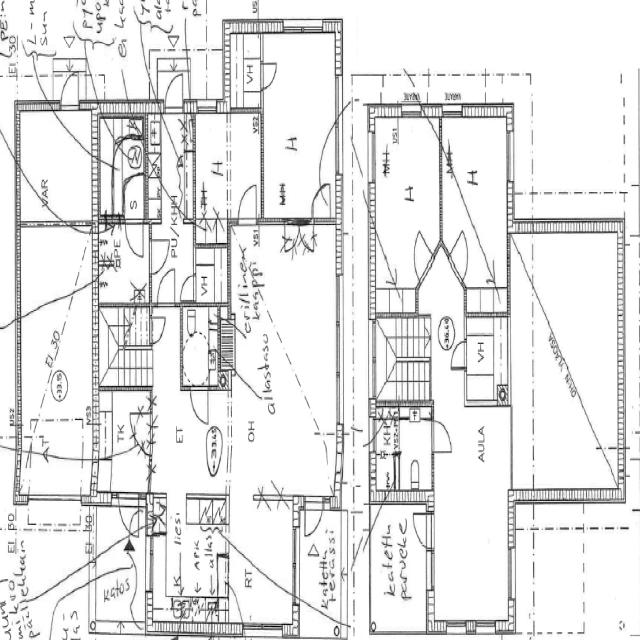door: (154, 262, 178, 310), (236, 180, 260, 227), (412, 233, 432, 288), (148, 233, 172, 278), (123, 216, 146, 262), (163, 71, 185, 119), (449, 234, 471, 282), (188, 383, 211, 428), (58, 69, 80, 116), (430, 416, 455, 457), (117, 492, 139, 538), (399, 80, 423, 122), (411, 510, 435, 551), (303, 494, 324, 538), (258, 58, 280, 92), (448, 337, 469, 372), (149, 313, 167, 347), (179, 271, 197, 305)
window: (330, 264, 348, 426), (282, 15, 326, 39), (242, 618, 286, 640), (504, 126, 519, 189), (505, 541, 518, 605), (281, 209, 316, 231), (333, 112, 344, 179), (290, 523, 300, 596), (368, 314, 378, 386), (367, 127, 378, 187), (331, 67, 343, 121), (472, 616, 500, 637), (94, 618, 128, 635), (374, 622, 408, 637), (426, 546, 437, 592), (194, 98, 218, 119), (441, 102, 465, 122), (444, 618, 469, 636)
zone: (432, 404, 511, 629), (260, 29, 338, 220), (442, 113, 511, 292), (371, 115, 441, 282), (15, 108, 96, 226), (151, 390, 232, 506), (186, 109, 263, 223), (369, 500, 432, 633), (148, 509, 230, 607), (81, 0, 145, 109), (98, 387, 152, 494), (373, 410, 433, 502), (19, 421, 89, 499), (307, 505, 346, 634), (97, 218, 151, 306), (103, 116, 146, 220), (465, 312, 511, 407), (180, 306, 226, 389), (223, 24, 262, 111), (94, 567, 140, 623), (194, 245, 229, 306), (370, 426, 397, 498), (182, 596, 219, 634), (484, 74, 504, 108)
